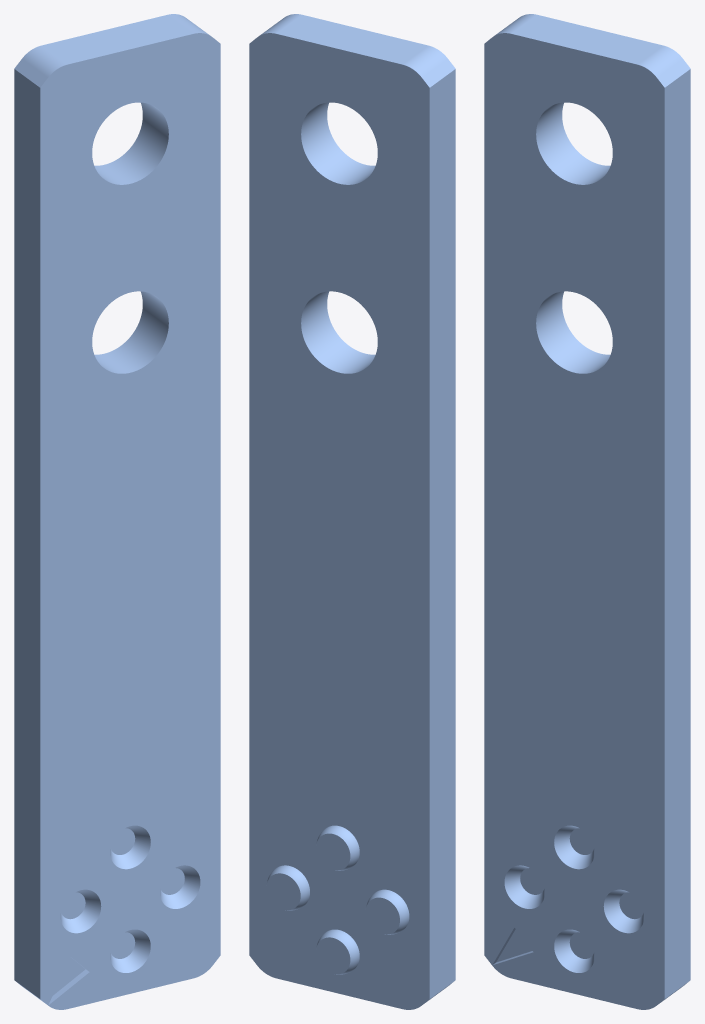
Rendered from tensioner_arm.gltf.
The picture shows the model from 3 angles, left to right: view 1: azimuth 30°, elevation 25°; view 2: azimuth 150°, elevation 25°; view 3: azimuth 330°, elevation 25°; orthographic projection.
Visible parts, largest first — view 1: SE11_060110012; view 2: SE11_060110012; view 3: SE11_060110012.
Part boxes in pixels (x1,y1,x2,y2): SE11_060110012: [14, 14, 220, 1009]; SE11_060110012: [249, 14, 455, 1009]; SE11_060110012: [484, 14, 690, 1009].
Bounding box in the file's own units: 0.02 × 0.1 × 0.0062.
